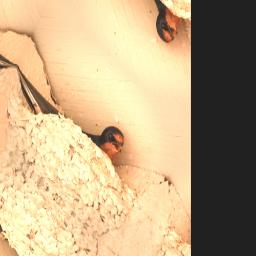Swallow: (5, 41, 129, 189)
